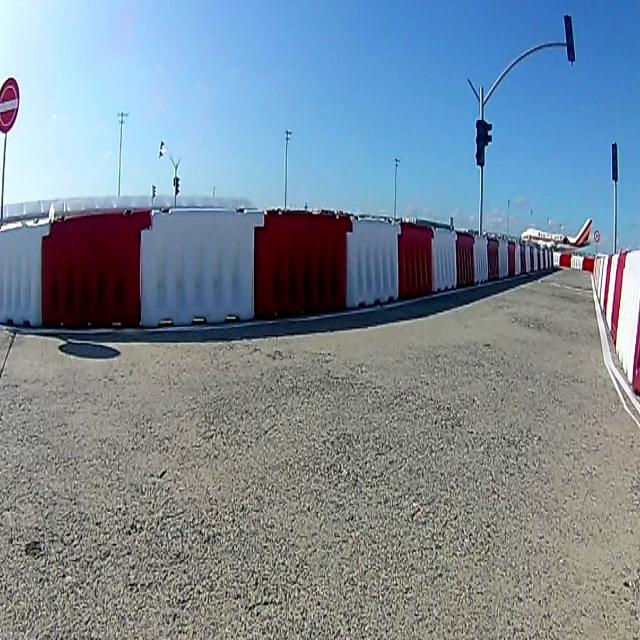girisyok: (0, 79, 18, 133)
